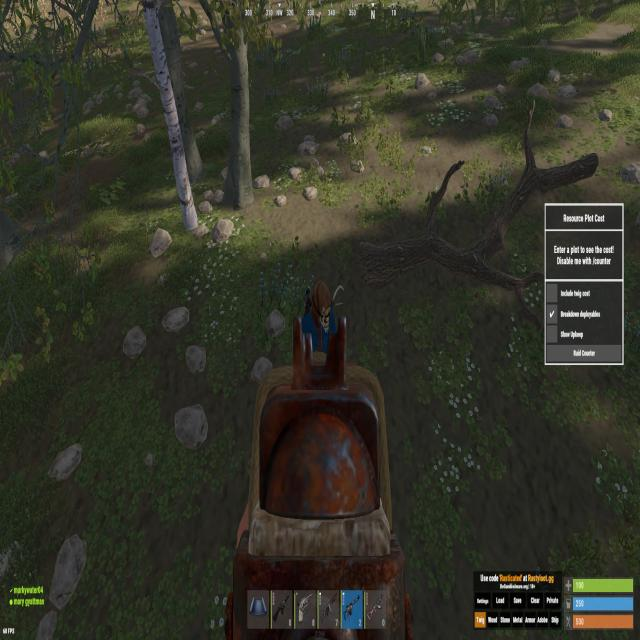Player: (301, 278, 337, 334)
